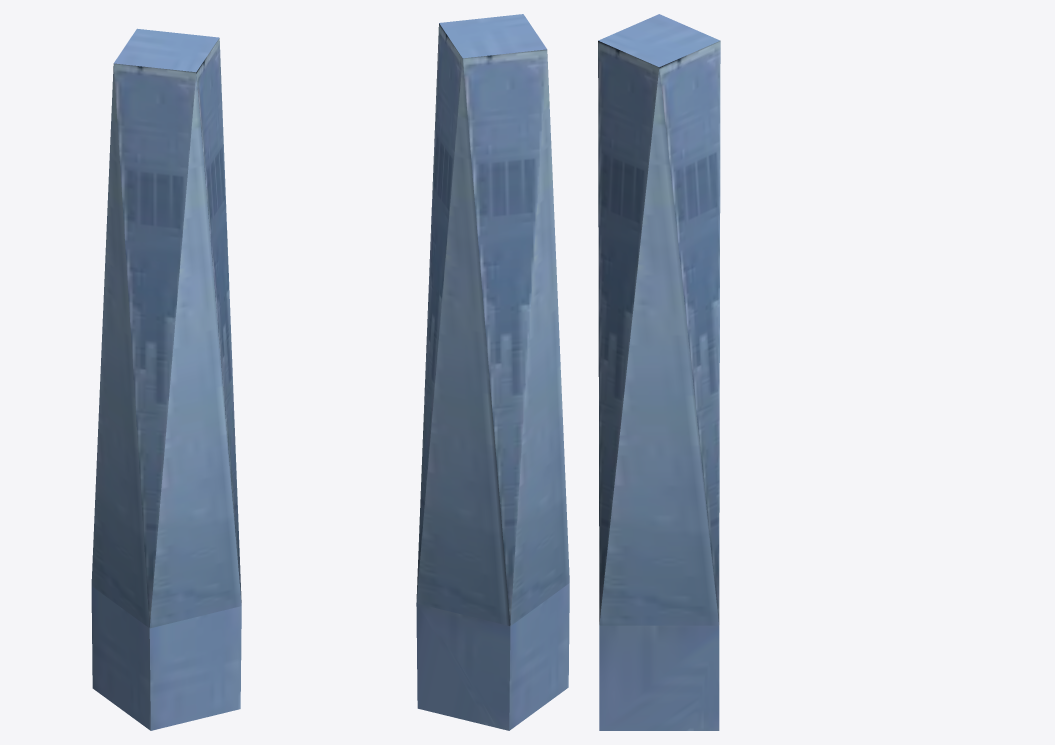
The model's file is ny-one-wtc.glb.
3 renders of one model, left to right at view 1: azimuth 30°, elevation 25°; view 2: azimuth 150°, elevation 25°; view 3: azimuth 270°, elevation 25°, orthographic. The views are drawn at different scales.
Parts seen in each view (by area): view 1: ny-one-wtc; view 2: ny-one-wtc; view 3: ny-one-wtc.
Part boxes in pixels (box(x1,y1,x2,y2)): ny-one-wtc: box(91, 28, 241, 730); ny-one-wtc: box(416, 14, 569, 730); ny-one-wtc: box(598, 14, 720, 730).
Size of the model in its own units: 44.87 by 262 by 157.
Materials: 1 (1 with a texture image).
